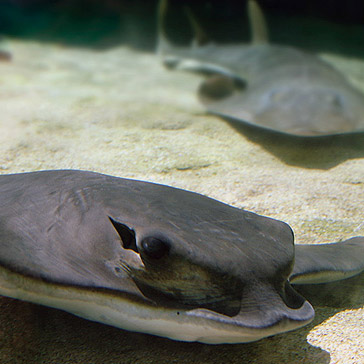Bat Ray: (12, 123, 364, 355)
